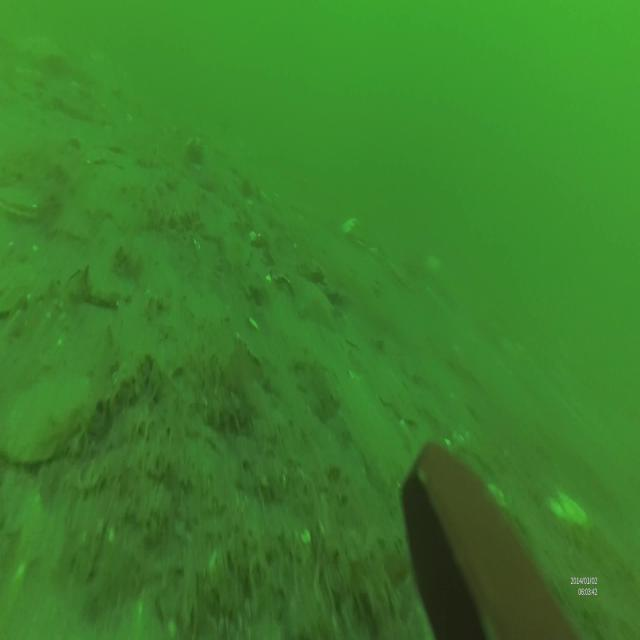scallop: (2, 174, 41, 232)
starfish: (284, 270, 338, 332)
